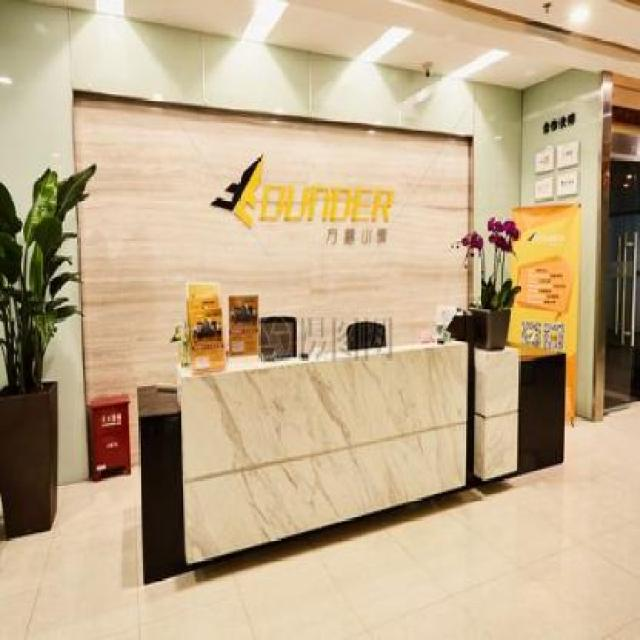frontdesk: (131, 280, 570, 585)
